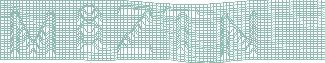8: (73, 4, 104, 53)
M: (8, 10, 57, 59)
N: (217, 10, 259, 60)
T: (161, 7, 202, 55)
Z: (113, 4, 155, 55)
